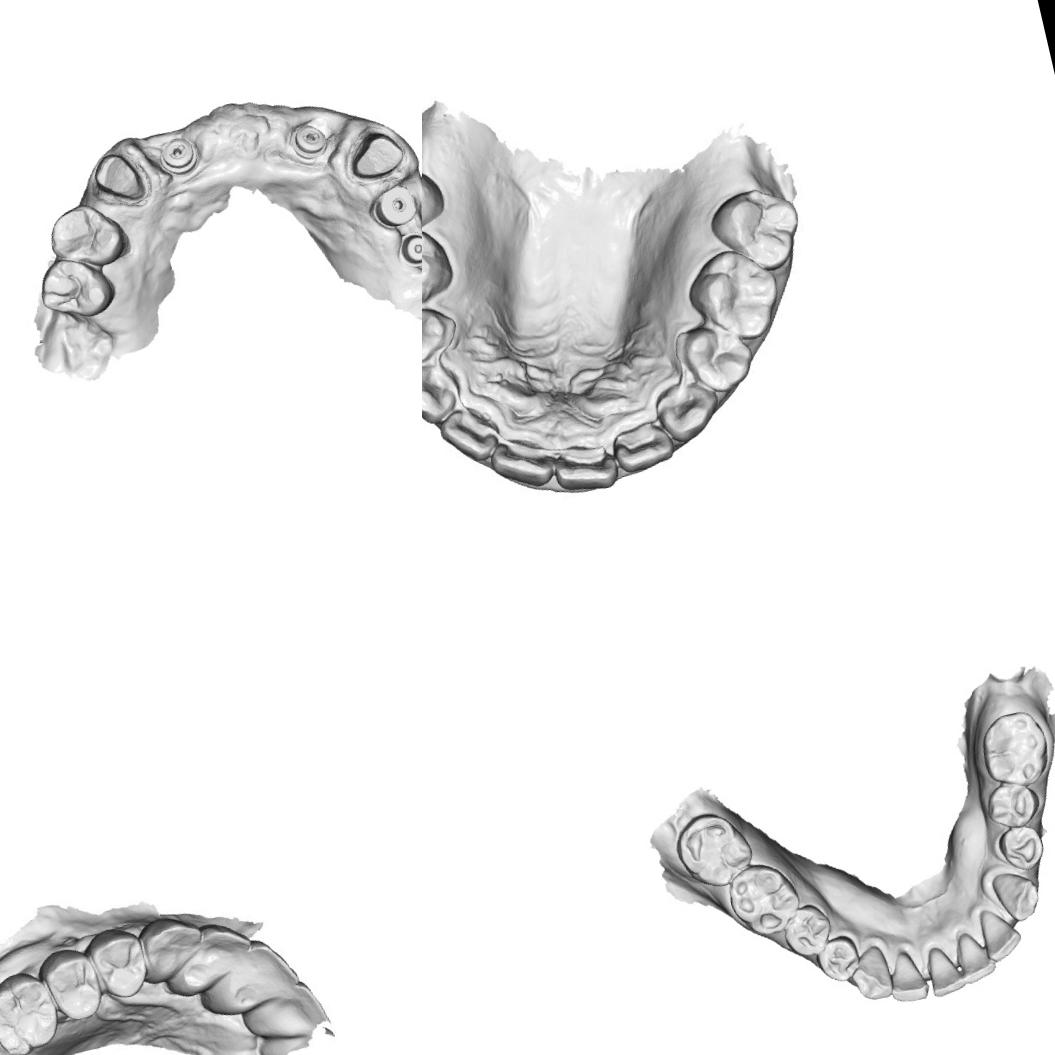canine: (132, 910, 210, 988), (650, 373, 727, 448), (988, 864, 1046, 928), (422, 355, 466, 432), (844, 941, 896, 1006)
crown: (342, 121, 410, 185), (90, 146, 152, 212)
implant: (368, 180, 421, 232), (395, 229, 422, 266)
implant_minus: (154, 133, 204, 180), (286, 119, 331, 164)
incisor: (154, 915, 264, 1007), (192, 938, 306, 1023), (235, 982, 329, 1054), (483, 429, 561, 500), (434, 399, 500, 473), (547, 436, 622, 499), (608, 418, 677, 476), (975, 902, 1026, 965), (949, 926, 1000, 986), (919, 940, 968, 1000), (883, 946, 931, 1006)
molar: (682, 240, 788, 349), (704, 178, 810, 282), (663, 802, 753, 888), (722, 855, 808, 945), (973, 704, 1055, 793), (0, 967, 66, 1055), (422, 222, 461, 318), (422, 153, 451, 246)
premolar: (43, 195, 133, 276), (675, 314, 759, 400), (33, 248, 122, 326), (88, 924, 153, 1004), (41, 946, 104, 1022), (776, 899, 838, 963), (981, 776, 1044, 834), (994, 820, 1051, 877), (812, 930, 866, 988), (422, 294, 460, 373)
